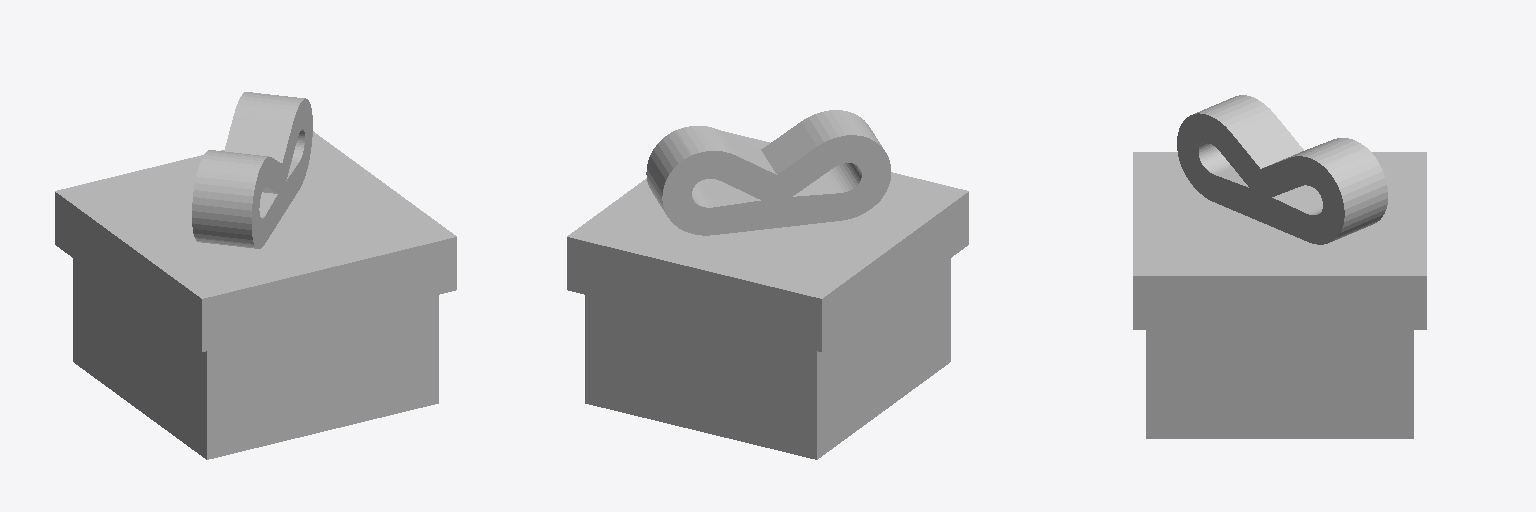
File: presentGreen.obj
The picture shows the model from 3 angles: view 1: azimuth 30°, elevation 25°; view 2: azimuth 150°, elevation 25°; view 3: azimuth 270°, elevation 25°; orthographic projection.
Parts seen in each view (by area): view 1: lid, presentGreen; view 2: lid, presentGreen; view 3: lid, presentGreen.
Part boxes in pixels (x1,y1,x2,y2): lid: (55, 92, 456, 351); presentGreen: (73, 258, 438, 459); lid: (567, 110, 968, 351); presentGreen: (585, 258, 950, 459); lid: (1133, 95, 1426, 329); presentGreen: (1146, 330, 1413, 438).
Size of the model in its own units: 0.3727 by 0.3535 by 0.3727.